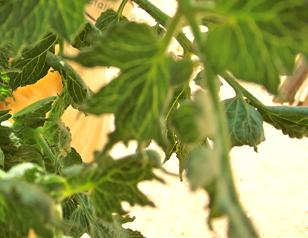Tomato leaf mosaic virus: (178, 0, 308, 87), (92, 23, 190, 136), (76, 155, 165, 219), (0, 0, 89, 54), (0, 32, 65, 102), (256, 100, 308, 153), (0, 178, 35, 238)
